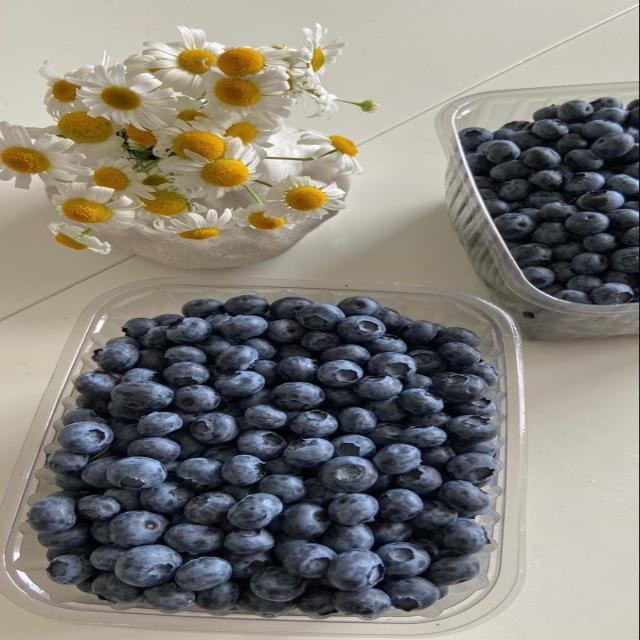blueberry: (115, 545, 181, 587), (328, 550, 384, 591), (106, 511, 168, 547), (319, 456, 377, 493), (381, 576, 440, 611), (250, 567, 306, 602), (228, 494, 283, 529), (112, 382, 174, 413), (175, 557, 231, 591), (107, 457, 166, 489), (164, 523, 222, 555), (377, 542, 430, 577), (58, 422, 113, 454), (280, 503, 330, 538), (28, 496, 76, 532), (334, 589, 391, 619), (443, 518, 490, 554), (184, 492, 235, 524), (446, 453, 500, 483), (426, 556, 479, 586), (141, 482, 192, 513), (440, 480, 489, 512), (143, 582, 195, 612), (328, 494, 378, 525), (433, 374, 487, 402), (321, 524, 373, 553), (236, 591, 294, 617), (175, 458, 222, 490), (92, 573, 142, 603), (190, 413, 238, 444), (237, 430, 286, 460), (272, 382, 324, 410), (284, 438, 334, 467), (378, 489, 423, 521), (445, 415, 498, 442), (47, 554, 94, 584), (93, 343, 139, 373), (374, 444, 420, 474), (222, 455, 266, 486), (411, 501, 458, 530), (37, 522, 89, 548), (396, 465, 442, 494), (214, 371, 265, 397), (223, 529, 274, 555), (127, 437, 180, 462), (196, 581, 240, 611), (258, 475, 305, 503), (226, 552, 274, 579), (290, 410, 338, 437), (296, 304, 345, 330), (368, 353, 417, 379), (81, 456, 120, 488), (338, 316, 386, 342), (174, 385, 220, 412), (318, 360, 363, 387), (74, 372, 119, 399), (220, 316, 268, 341), (297, 588, 337, 618), (398, 389, 444, 415), (591, 132, 633, 159), (163, 362, 210, 386), (354, 376, 403, 399), (215, 346, 258, 372), (371, 519, 412, 546), (167, 318, 211, 343), (77, 495, 121, 520), (494, 213, 536, 239), (577, 190, 624, 213), (274, 534, 311, 563), (138, 412, 182, 436), (338, 407, 377, 434), (89, 544, 127, 571), (366, 397, 407, 422), (47, 449, 88, 474), (332, 435, 376, 458), (565, 212, 609, 235), (439, 342, 481, 366), (110, 422, 142, 453), (245, 405, 286, 429), (490, 160, 534, 182), (408, 349, 445, 375), (399, 427, 447, 447), (565, 172, 605, 196), (448, 398, 498, 417), (591, 283, 634, 305), (511, 244, 552, 267), (270, 297, 312, 319), (266, 319, 304, 343), (224, 295, 269, 315), (522, 147, 561, 170), (75, 395, 107, 423), (401, 321, 438, 345), (580, 119, 622, 140), (571, 252, 609, 275), (532, 222, 568, 246), (367, 334, 408, 355), (565, 149, 604, 171), (461, 363, 498, 386), (485, 140, 520, 164), (324, 388, 364, 409), (250, 360, 281, 387), (104, 488, 140, 511), (338, 296, 379, 316), (422, 445, 456, 469), (197, 335, 231, 359), (557, 100, 594, 122), (369, 423, 404, 446), (62, 408, 106, 426), (497, 179, 531, 202), (459, 127, 493, 150), (454, 438, 500, 455), (301, 331, 339, 351), (181, 299, 223, 317), (532, 119, 568, 140), (522, 267, 555, 289), (556, 133, 589, 155), (373, 307, 402, 332), (523, 190, 563, 208), (243, 338, 277, 359), (607, 174, 639, 196), (540, 203, 578, 221), (202, 444, 238, 463), (529, 170, 563, 190), (607, 209, 639, 230), (140, 326, 169, 349), (589, 107, 628, 124), (584, 233, 617, 253), (406, 412, 450, 427), (567, 275, 603, 293), (54, 474, 92, 491), (552, 242, 584, 262), (137, 349, 166, 371), (267, 458, 302, 476), (512, 131, 544, 150), (465, 153, 492, 175), (278, 343, 312, 359), (90, 521, 113, 544), (550, 262, 575, 283), (617, 143, 639, 165), (369, 475, 393, 495), (484, 200, 510, 218), (554, 290, 590, 303), (403, 374, 432, 389), (516, 208, 543, 224), (533, 105, 558, 122), (620, 226, 640, 247), (591, 97, 623, 109), (106, 336, 139, 347), (153, 314, 183, 325), (502, 120, 529, 131), (623, 163, 639, 179), (494, 128, 515, 140), (623, 201, 640, 211), (626, 99, 639, 110)
